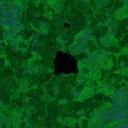alloviz: (52, 49, 79, 76), (62, 21, 71, 28)
